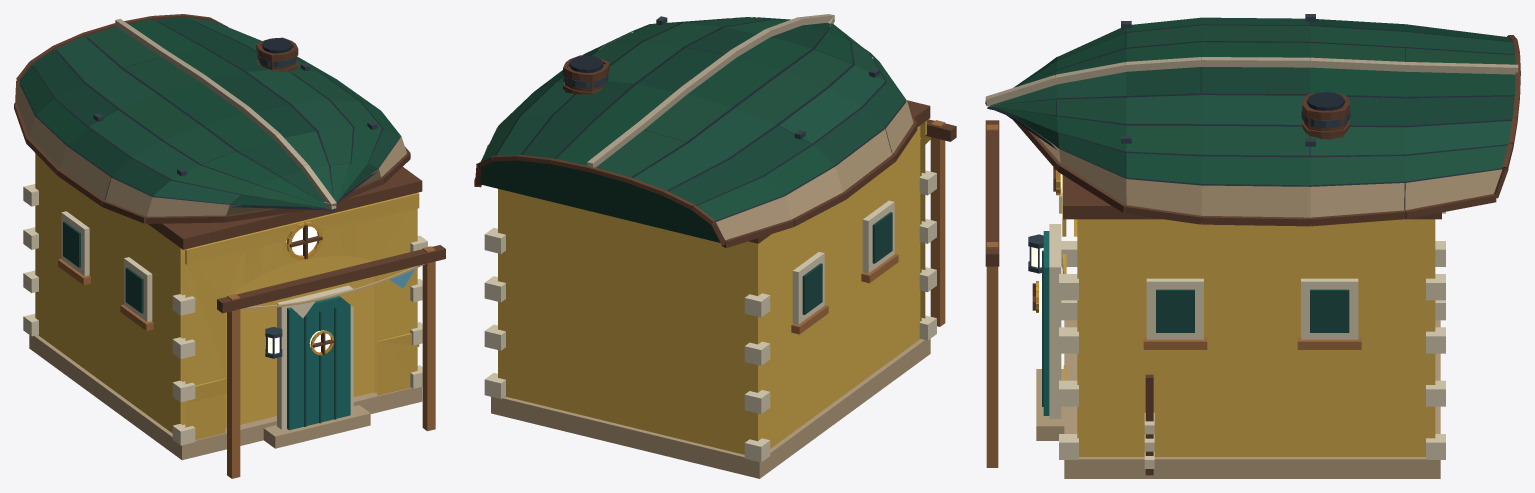
File: boat-shop-medium-butter.glb
3 views of the same model, side by side, from view 1: azimuth 30°, elevation 25°; view 2: azimuth 150°, elevation 25°; view 3: azimuth 270°, elevation 25° (orthographic). The views are drawn at different scales.
Parts seen in each view (by area): view 1: boat-shop-medium-butter; view 2: boat-shop-medium-butter; view 3: boat-shop-medium-butter.
Part boxes in pixels (x1=…): boat-shop-medium-butter: x1=14, y1=14, x2=445, y2=478; boat-shop-medium-butter: x1=474, y1=14, x2=956, y2=478; boat-shop-medium-butter: x1=985, y1=14, x2=1520, y2=478.
Size of the model in its own units: 4.51 by 4.31 by 5.88.
